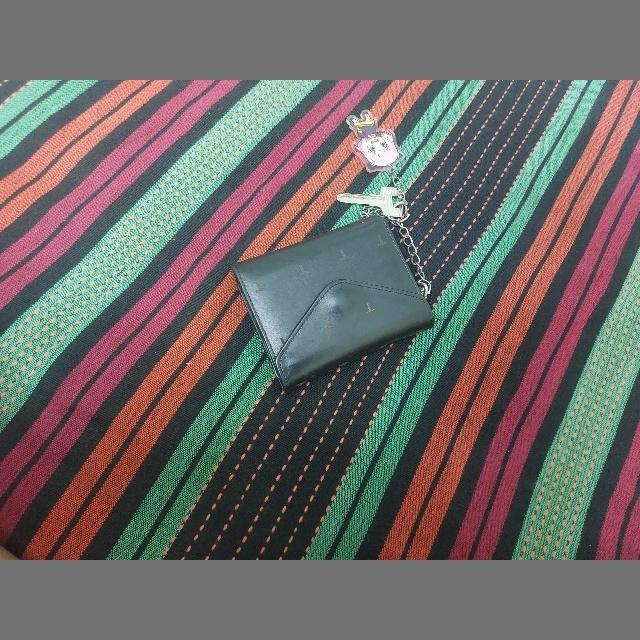Keys: (337, 187, 405, 219)
Wallet: (230, 215, 434, 389)
